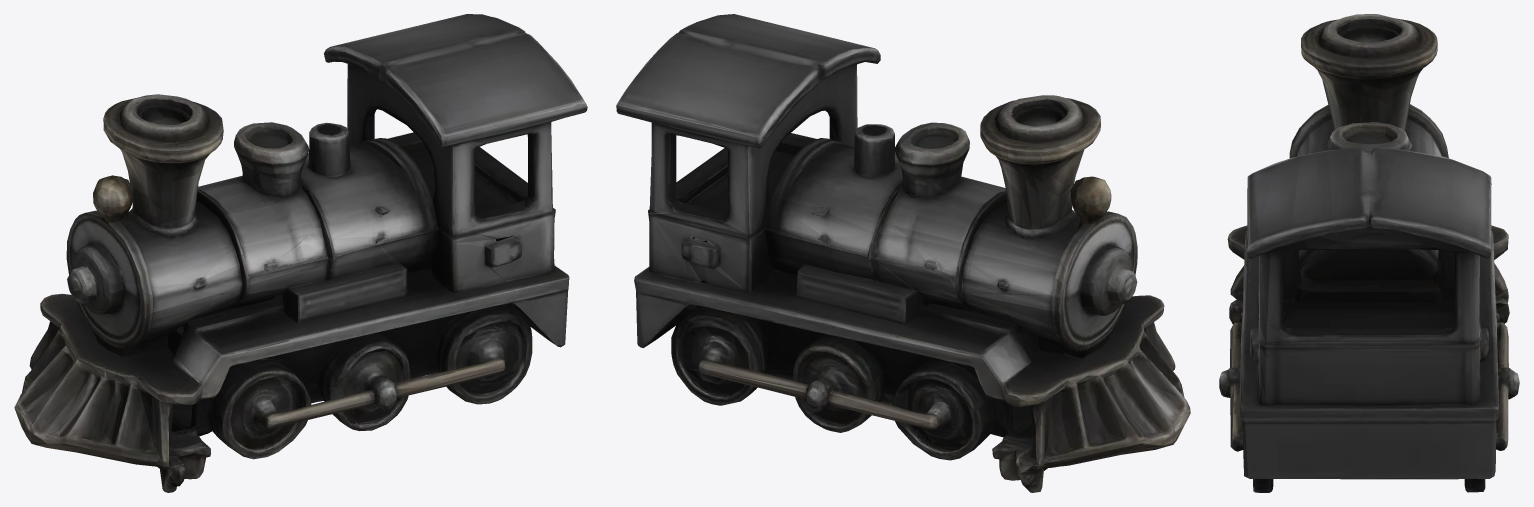
Rendered from locomotive.glb.
The picture shows the model from 3 angles, left to right: view 1: azimuth 30°, elevation 25°; view 2: azimuth 150°, elevation 25°; view 3: azimuth 270°, elevation 25°; orthographic projection. The views are drawn at different scales.
Visible parts, largest first — view 1: world; view 2: world; view 3: world.
Part boxes in pixels (x1,y1,x2,y2): world: (14, 14, 587, 492); world: (616, 14, 1190, 492); world: (1219, 14, 1519, 492).
Size of the model in its own units: 0.9995 by 0.6164 by 0.5119.
1 material, 1 textured.
